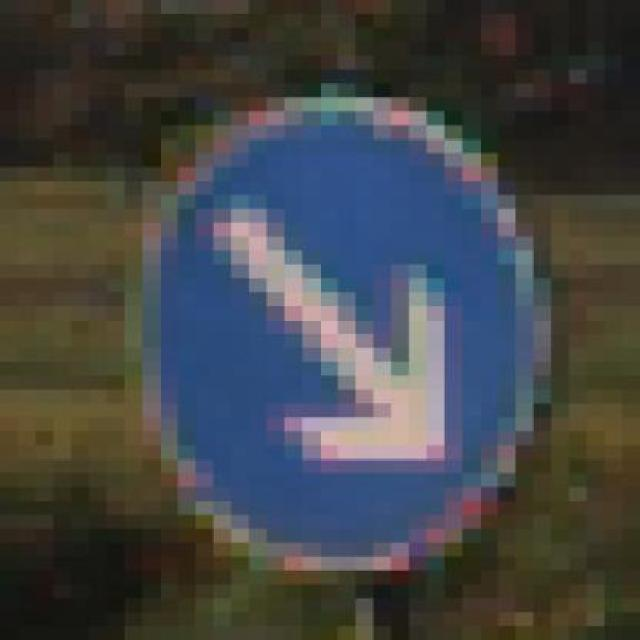Keep-Right: (106, 70, 569, 598)
